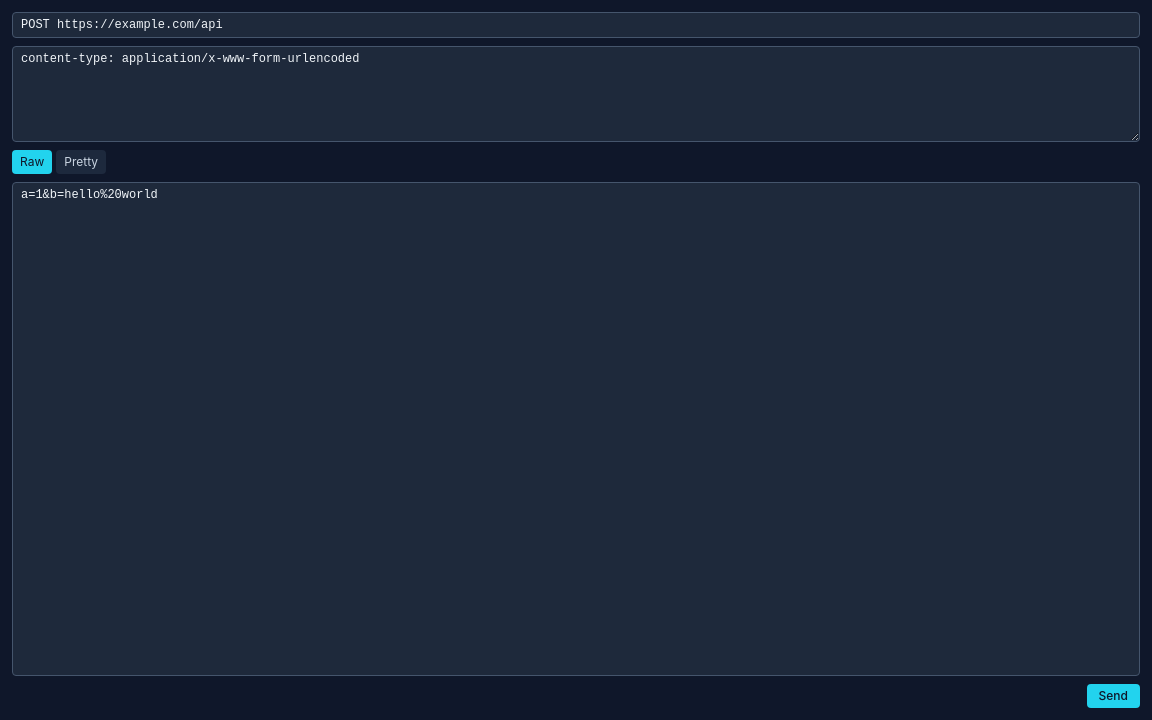
Test: ReplayRequestEditor › switching to the Pretty tab with a form-data body renders the key-value table
The width and height of the screenshot is (1152, 720).
Click the button with test id "replay-request-editor-tab-pretty" at x=81, y=162, box x1=56 y1=150 x2=106 y2=174
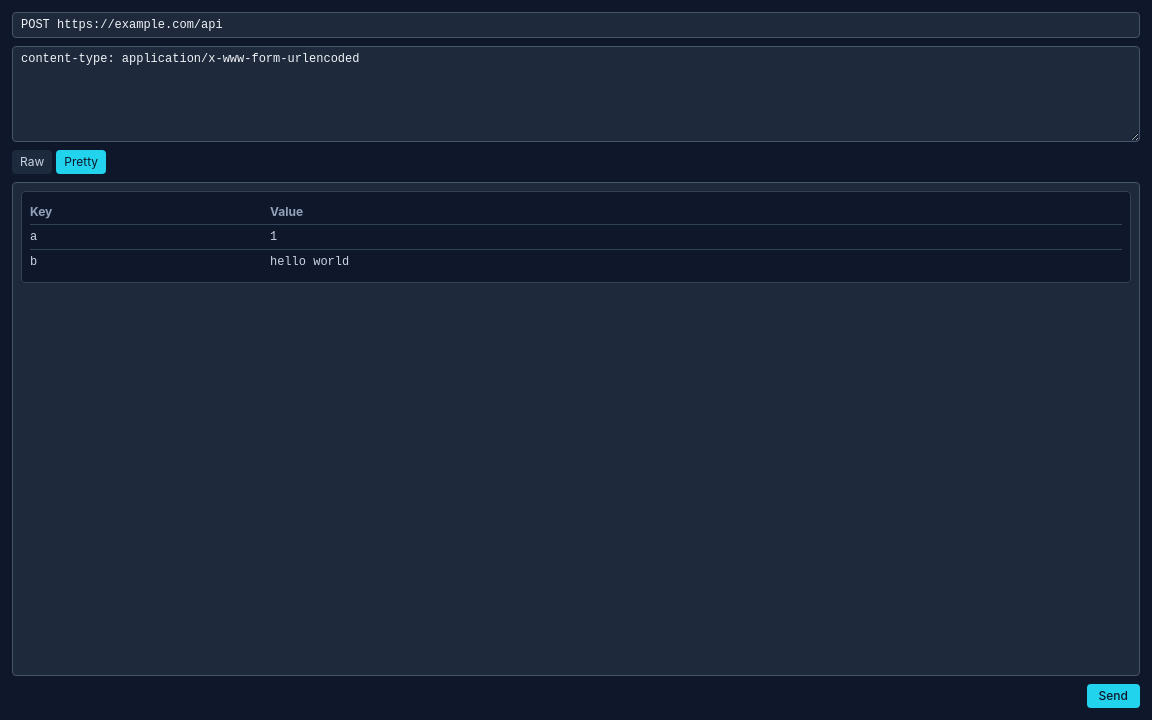
Check: the element with test id "replay-request-editor-pretty-form" is shown, box x1=21 y1=191 x2=1131 y2=283
Check: the row with test id "replay-request-editor-pretty-form-row-0" is shown, box x1=30 y1=224 x2=1122 y2=250
